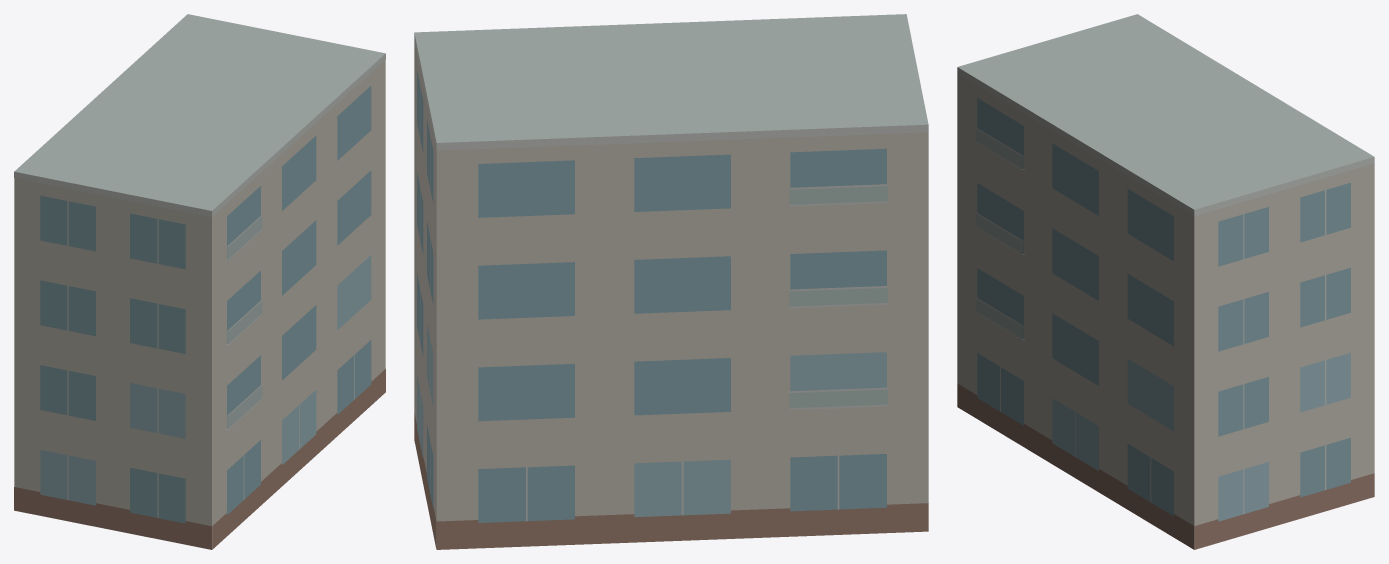
File: survey-upis-32802451.glb
3 views of the same model, side by side, from view 1: azimuth 30°, elevation 25°; view 2: azimuth 150°, elevation 25°; view 3: azimuth 270°, elevation 25° (orthographic). The views are drawn at different scales.
Parts seen in each view (by area): view 1: survey-upis-32802451.tmp; view 2: survey-upis-32802451.tmp; view 3: survey-upis-32802451.tmp.
Boxes of the visible parts, <box> form: survey-upis-32802451.tmp: <box>14,14,385,549</box>; survey-upis-32802451.tmp: <box>414,14,928,549</box>; survey-upis-32802451.tmp: <box>957,14,1374,549</box>.
Size of the model in its own units: 16.07 by 13 by 14.47.
